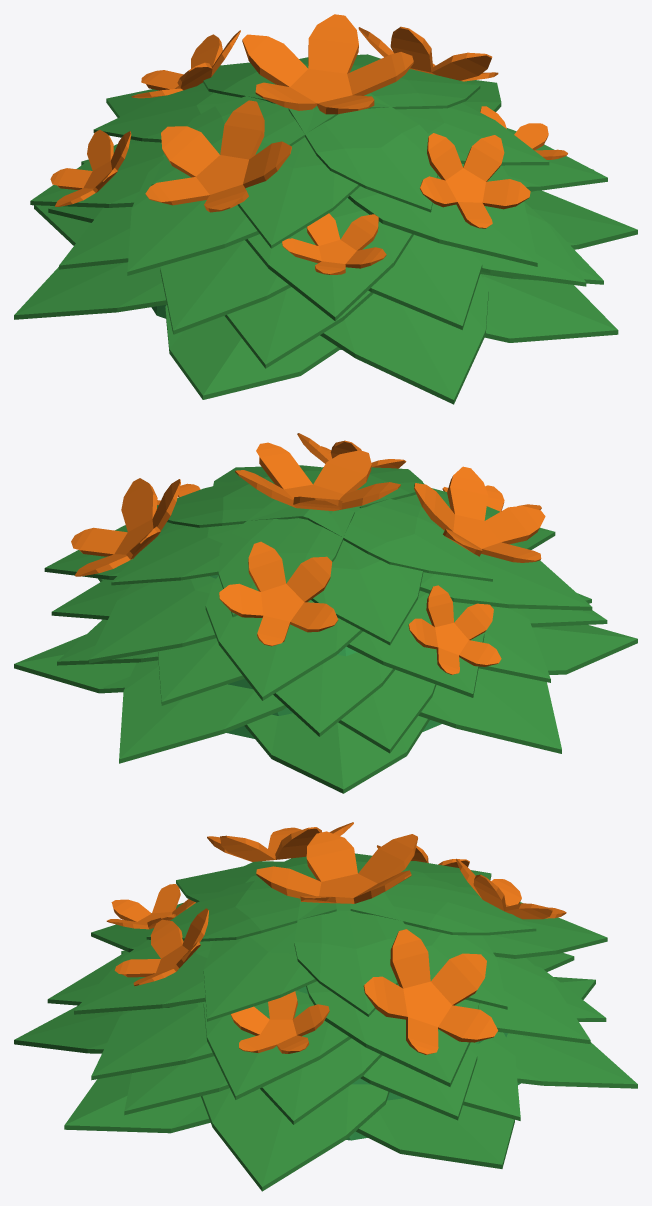
The model's file is BushOrangeFlowers.fbx.
3 renders of one model, top to bottom at view 1: azimuth 30°, elevation 25°; view 2: azimuth 150°, elevation 25°; view 3: azimuth 270°, elevation 25°, orthographic. The views are drawn at different scales.
Parts seen in each view (by area): view 1: BushOrangeFlowers; view 2: BushOrangeFlowers; view 3: BushOrangeFlowers.
Part boxes in pixels (x1,y1,x2,y2): BushOrangeFlowers: (14,14,637,404); BushOrangeFlowers: (14,433,637,793); BushOrangeFlowers: (14,822,637,1191).
Size of the model in its own units: 991 by 373 by 999.
